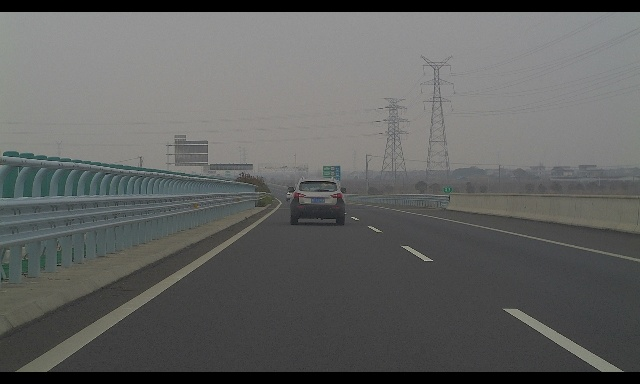car: (287, 176, 346, 225), (286, 189, 300, 201)
